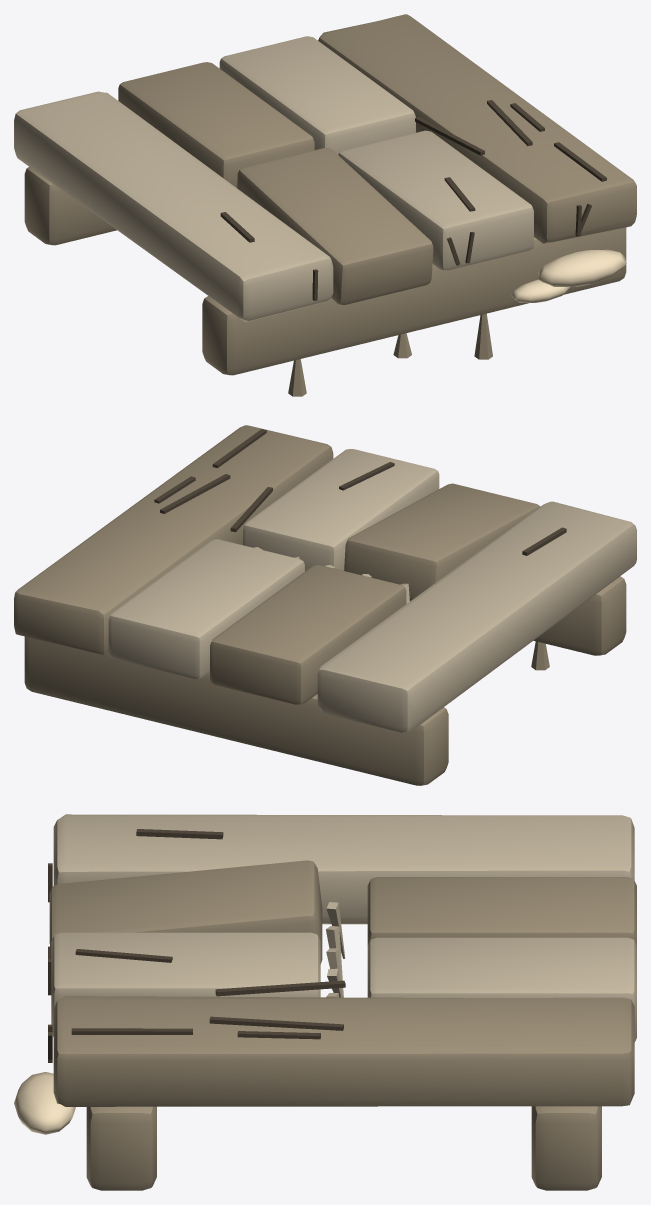
Rendered from tile_crumble.glb.
3 renders of one model, top to bottom at view 1: azimuth 30°, elevation 25°; view 2: azimuth 150°, elevation 25°; view 3: azimuth 270°, elevation 25°, orthographic. The views are drawn at different scales.
Visible parts, largest first — view 1: tile_crumble; view 2: tile_crumble; view 3: tile_crumble.
Part boxes in pixels (box(x1,y1,x2,y2)): tile_crumble: box(14, 14, 636, 396); tile_crumble: box(14, 425, 636, 785); tile_crumble: box(14, 814, 636, 1190).
Size of the model in its own units: 0.5 by 0.1997 by 0.532.
